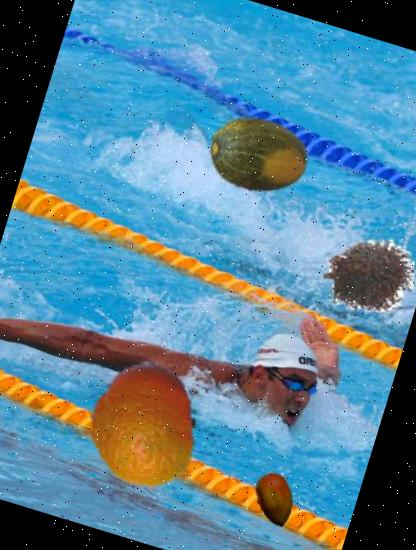Mandarine: (64, 346, 222, 504)
Melon: (194, 97, 319, 222)
Papaya: (240, 466, 309, 534)
Rambutan: (311, 217, 416, 331)
